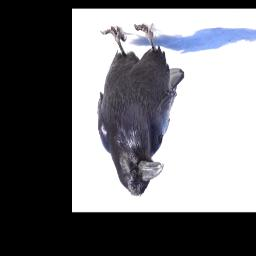Crow: (97, 22, 186, 199)
